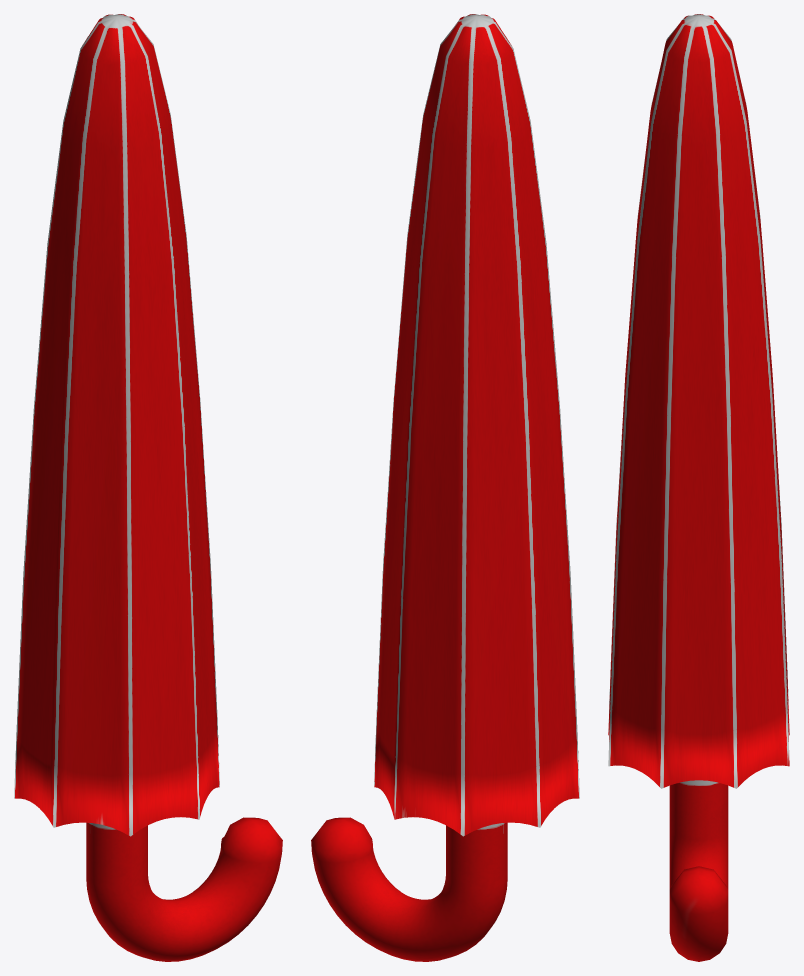
File: UmbrellaClosed.gltf
The picture shows the model from 3 angles, left to right: view 1: azimuth 30°, elevation 25°; view 2: azimuth 150°, elevation 25°; view 3: azimuth 270°, elevation 25°; orthographic projection. The views are drawn at different scales.
Parts seen in each view (by area): view 1: Cylinder; view 2: Cylinder; view 3: Cylinder.
Boxes of the visible parts, x1,y1,x2,y2 form: Cylinder: (14,14,282,961); Cylinder: (311,14,579,961); Cylinder: (608,14,789,961).
Bounding box in the file's own units: 1.82 × 6.78 × 1.23.
Materials: 1 (1 with a texture image).
